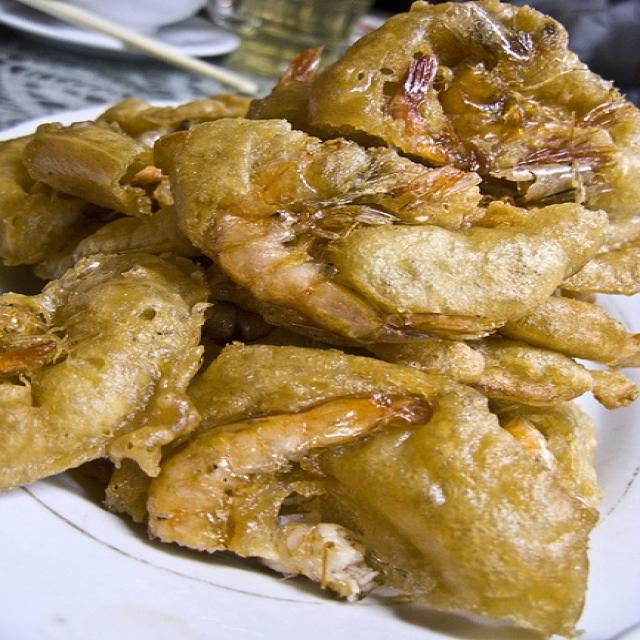炸货点心: (9, 10, 625, 621)
熟制海鲜: (9, 10, 625, 621)
